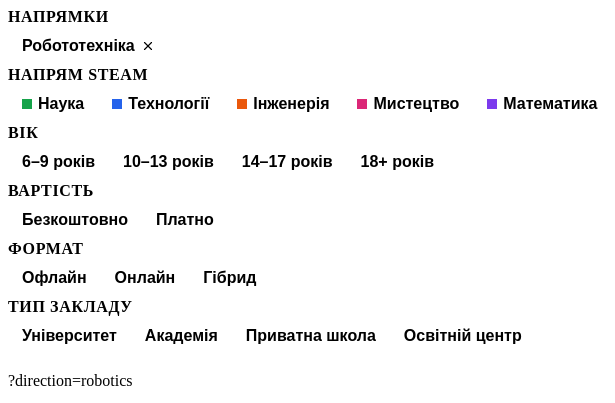
Scenario: FiltersForm › активний напрямок показується й знімається
This screenshot has width=615, height=403.
What coordinates should you click on to do the following:
click the button "Робототехніка"
I would click on:
 (88, 46)
Its box is [8,26,169,66].
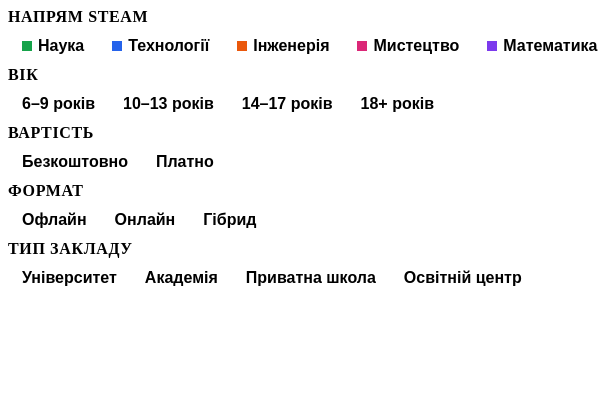
Now the text "Напрямки" is gone
